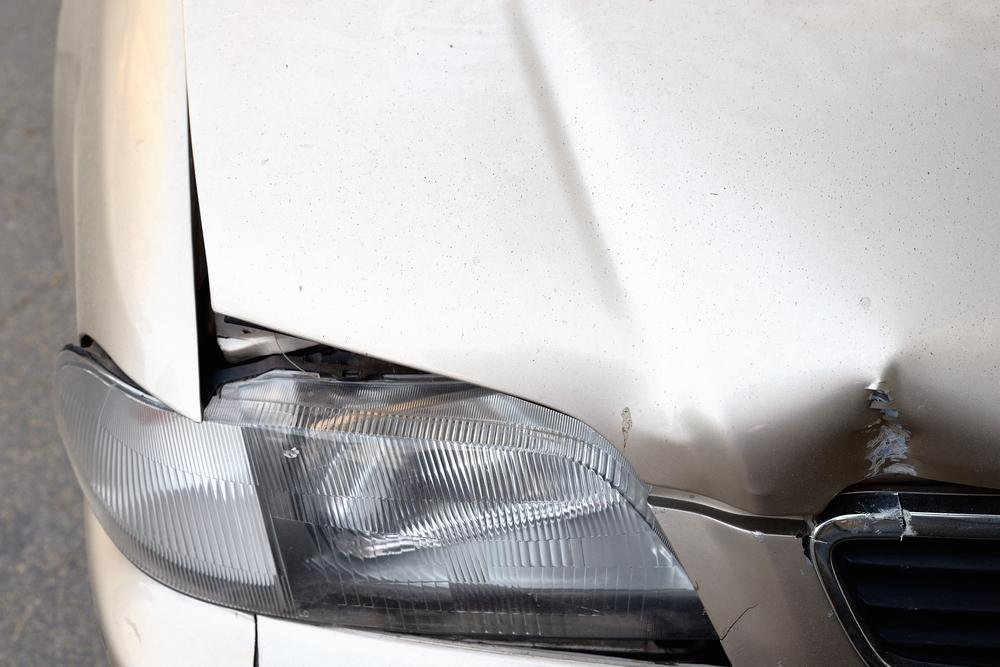crack: (718, 599, 763, 642), (799, 534, 815, 568)
dent: (758, 362, 995, 513)
